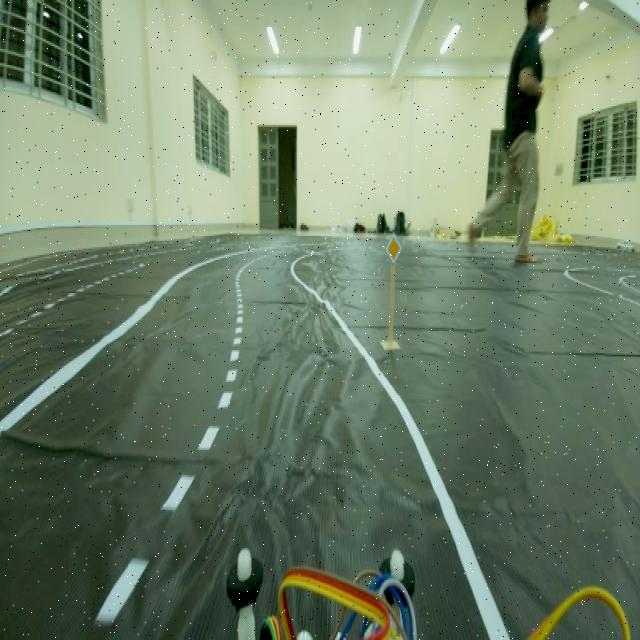priority: (384, 231, 403, 268)
